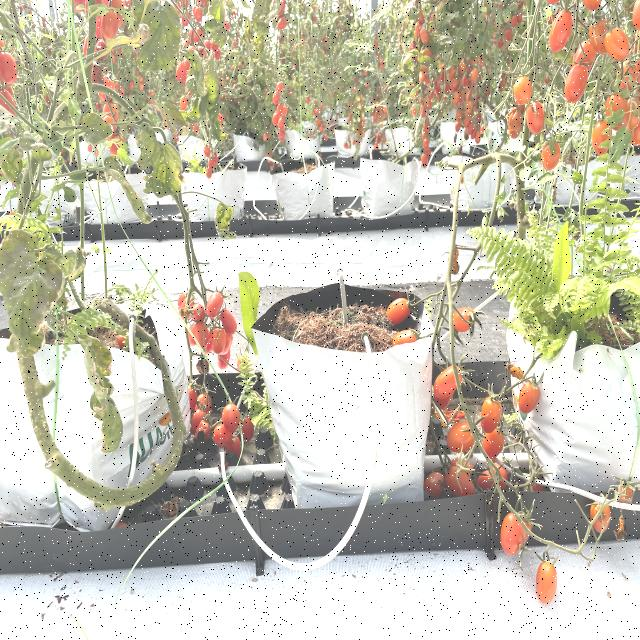Soilbag: (2, 301, 198, 537), (255, 287, 434, 509), (508, 282, 638, 495)
plant: (0, 82, 182, 509)
